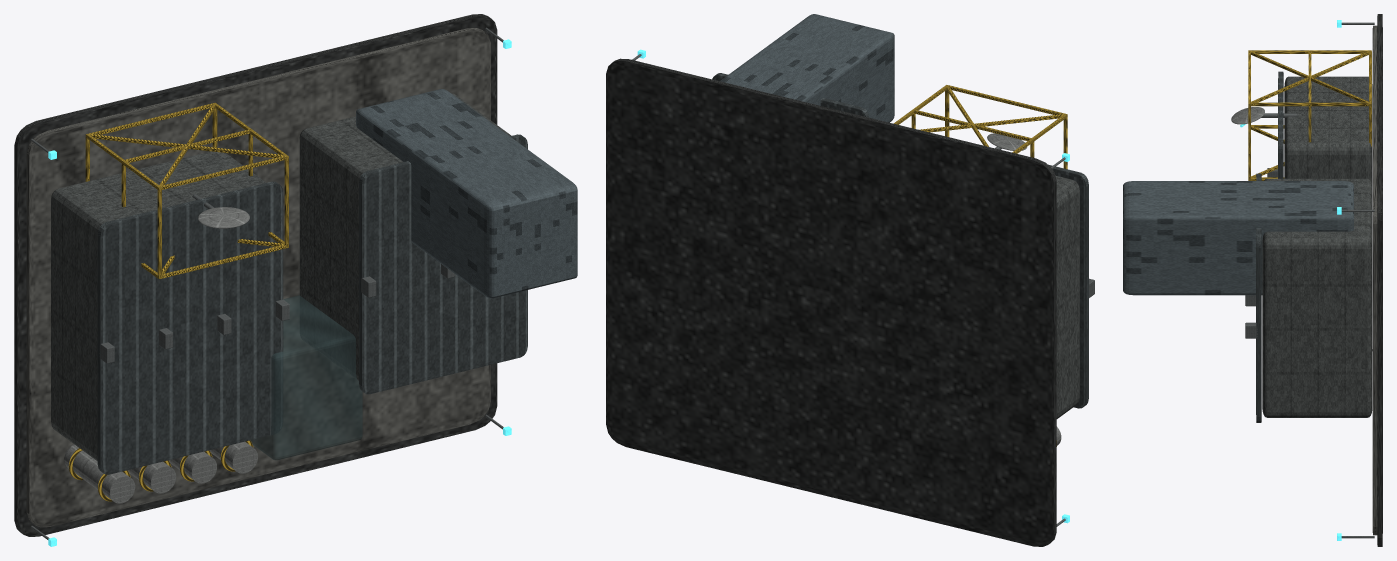
File: b-25-tech-lab-lod0.glb
The picture shows the model from 3 angles, left to right: view 1: azimuth 30°, elevation 25°; view 2: azimuth 150°, elevation 25°; view 3: azimuth 270°, elevation 25°; orthographic projection. The views are drawn at different scales.
Parts seen in each view (by area): view 1: foundation_inner_pad, lab_west_roof, laboratory_tower, lab_east_roof, lab_west_main_hall, foundation, lab_east_main_hall, primary_glass_atrium, cryogenic_tank_0_vessel, cryogenic_tank_2_vessel, cryogenic_tank_3_vessel, cryogenic_tank_1_vessel (+2 smaller); view 2: foundation, laboratory_tower, lab_west_main_hall, lab_west_roof, outdoor_test_rig_brace_b_1.5; view 3: lab_east_main_hall, laboratory_tower, lab_west_main_hall, foundation, foundation_inner_pad, lab_east_roof, lab_west_roof, outdoor_test_rig_column_e_n, outdoor_test_rig_brace_b_1.5, outdoor_test_rig_brace_a_1.5, outdoor_test_rig_column_w_n, lab_sensor_dish.
Boxes of the visible parts, box(x1,y1,x2,y2) form: foundation_inner_pad: box(26, 28, 490, 527); lab_west_roof: box(97, 181, 283, 474); laboratory_tower: box(356, 89, 577, 298); lab_east_roof: box(359, 134, 527, 394); lab_west_main_hall: box(51, 151, 266, 460); foundation: box(14, 14, 497, 536); lab_east_main_hall: box(299, 93, 511, 380); primary_glass_atrium: box(250, 295, 362, 460); cryogenic_tank_0_vessel: box(64, 444, 135, 503); cryogenic_tank_2_vessel: box(168, 451, 216, 483); cryogenic_tank_3_vessel: box(209, 441, 257, 473); cryogenic_tank_1_vessel: box(127, 461, 176, 493); foundation: box(606, 58, 1056, 546); laboratory_tower: box(720, 14, 894, 122); lab_west_main_hall: box(1055, 175, 1079, 418); lab_west_roof: box(1048, 164, 1088, 408); outdoor_test_rig_brace_b_1.5: box(919, 114, 1063, 132); lab_east_main_hall: box(1262, 178, 1372, 417); laboratory_tower: box(1123, 181, 1353, 295); lab_west_main_hall: box(1284, 76, 1372, 184); foundation: box(1377, 14, 1382, 546); foundation_inner_pad: box(1372, 25, 1377, 535); lab_east_roof: box(1256, 173, 1261, 422); lab_west_roof: box(1278, 71, 1283, 178); outdoor_test_rig_column_e_n: box(1250, 102, 1369, 106); outdoor_test_rig_brace_b_1.5: box(1251, 51, 1368, 102); outdoor_test_rig_brace_a_1.5: box(1251, 51, 1368, 102); outdoor_test_rig_column_w_n: box(1250, 50, 1369, 53); lab_sensor_dish: box(1231, 107, 1264, 124).
Size of what is drawn, in the model's own units: 17 by 14 by 9.45.
Materials: 11 (11 with a texture image).
